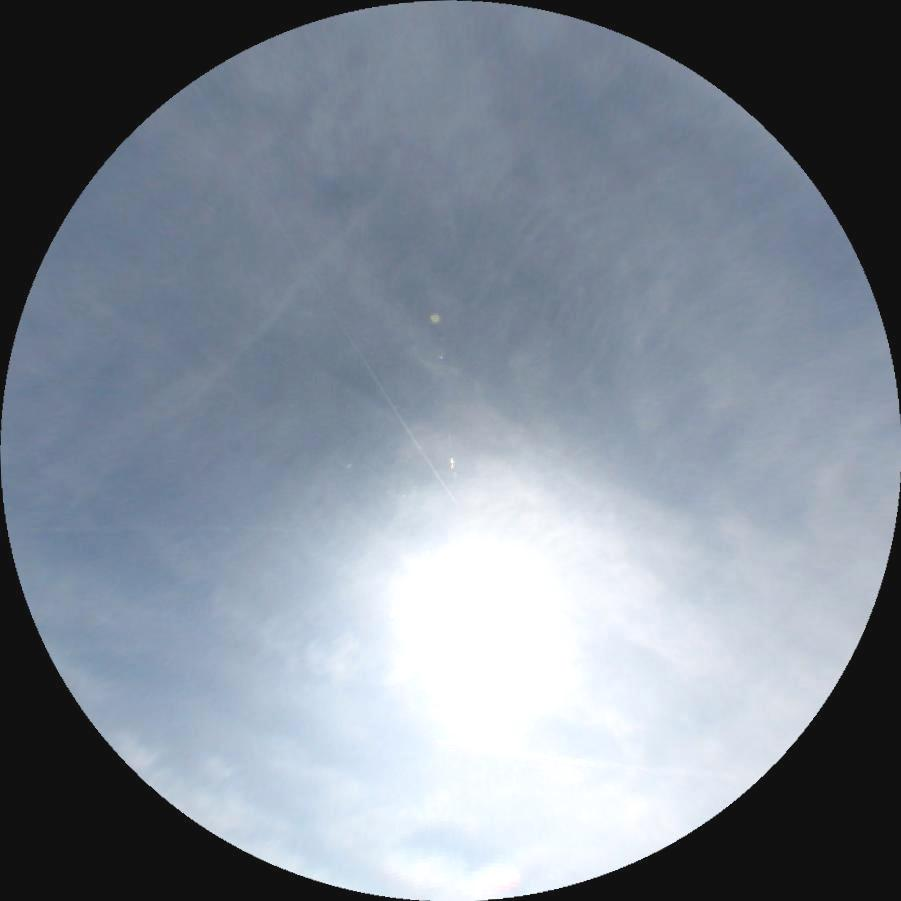contrail young: (273, 219, 461, 510), (433, 738, 686, 778)
parasite: (8, 525, 308, 535)
sun: (445, 552, 585, 709)
unknow: (37, 176, 427, 509)
